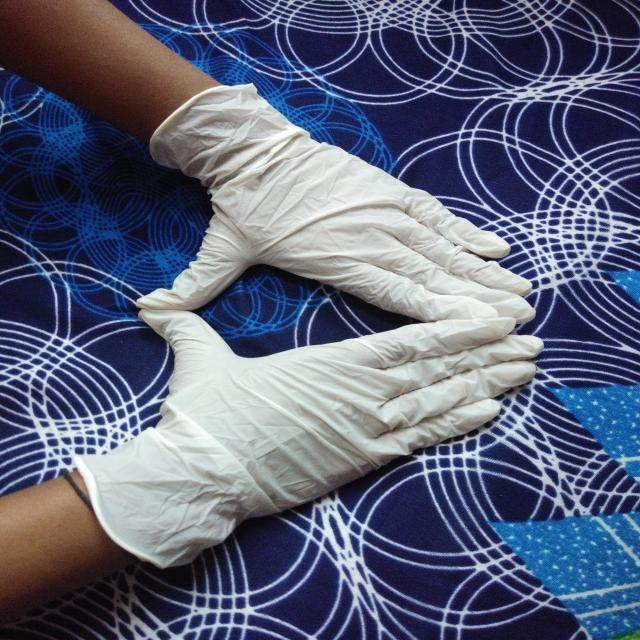glove_hand: (60, 285, 546, 574), (107, 70, 539, 326)
